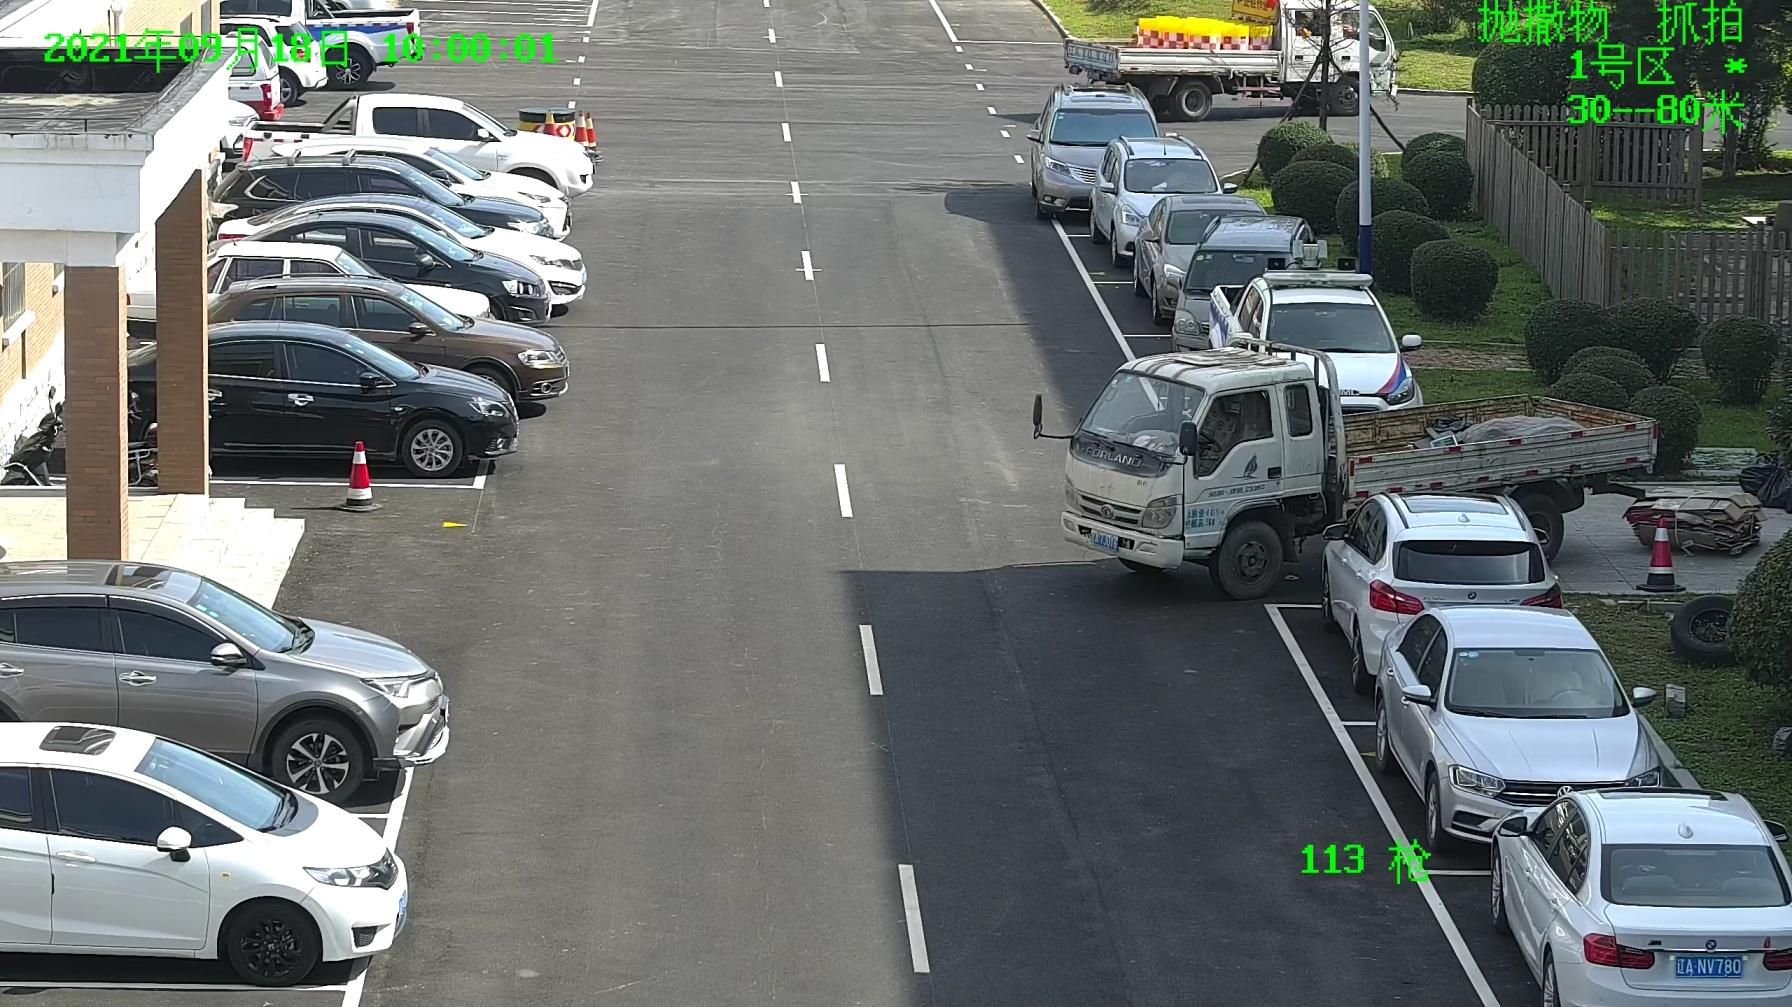cone_barrel: (1135, 16, 1164, 47), (1189, 18, 1218, 48), (1220, 22, 1250, 47), (1166, 16, 1188, 48), (1250, 23, 1273, 49)
